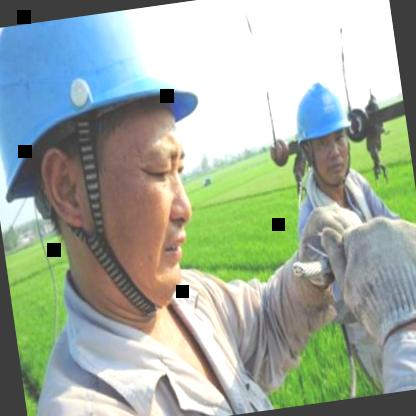helmet: (0, 1, 232, 359), (282, 68, 367, 200)
